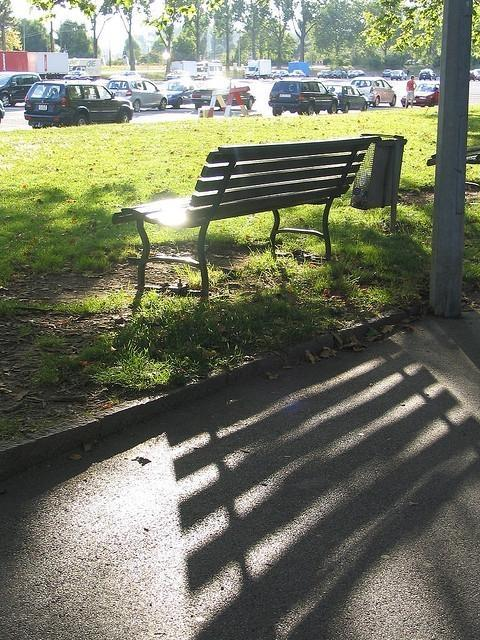car: (24, 80, 134, 129), (268, 77, 338, 116), (106, 78, 169, 112), (1, 72, 44, 108), (351, 77, 397, 108), (324, 85, 370, 113), (168, 90, 214, 110), (402, 83, 440, 107), (272, 69, 290, 80), (390, 70, 406, 81), (419, 72, 431, 80), (382, 68, 392, 77), (470, 72, 477, 82)
truck: (22, 80, 136, 128), (0, 52, 68, 84), (194, 61, 222, 80), (246, 59, 272, 79)
